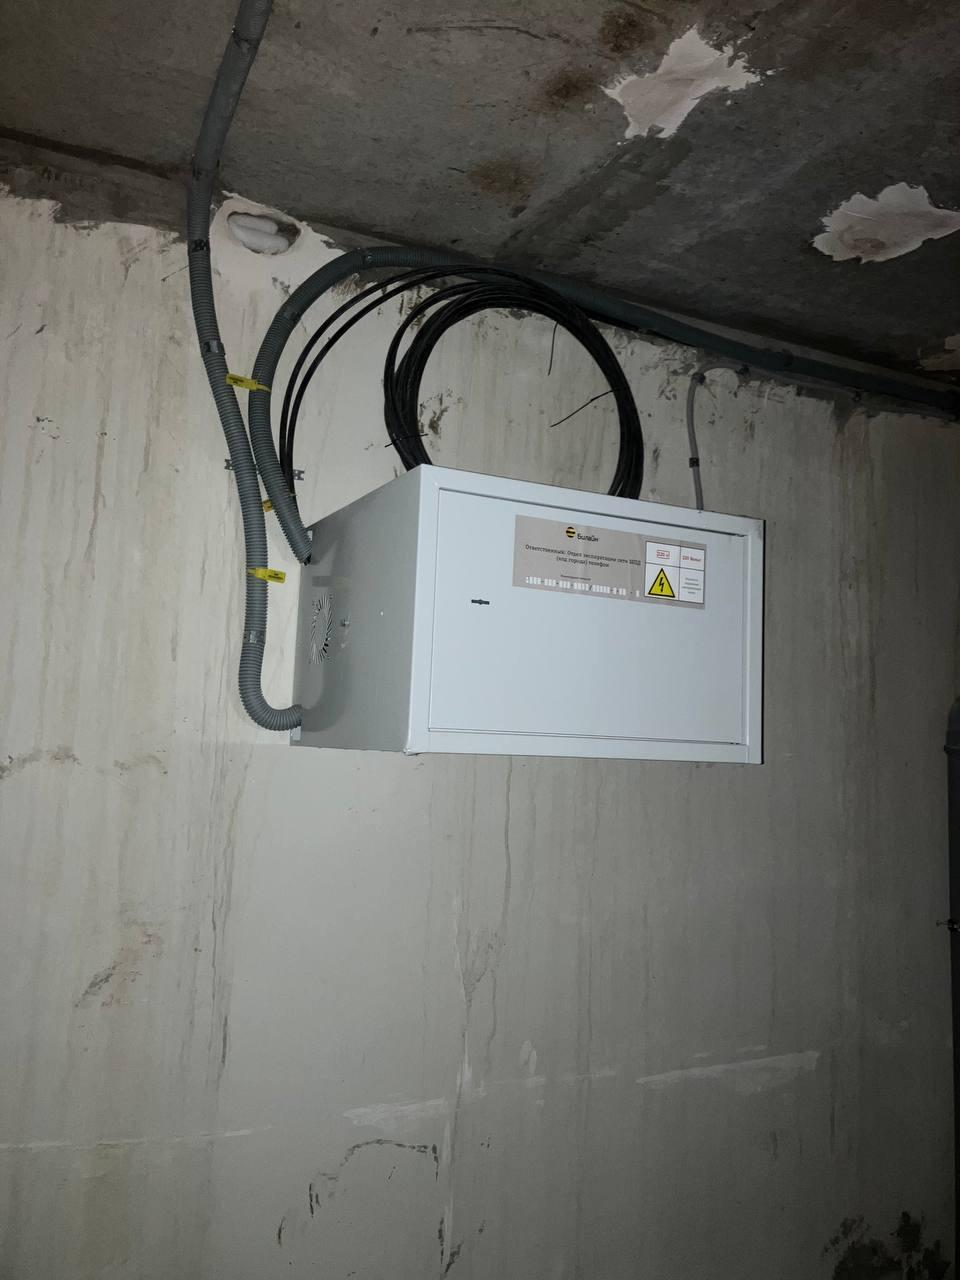shta-7m: (291, 457, 772, 775)
